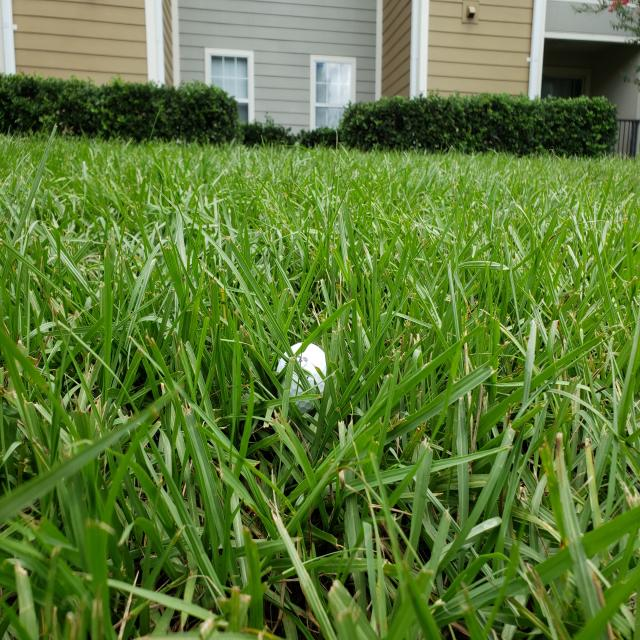golfball: (272, 340, 330, 412)
